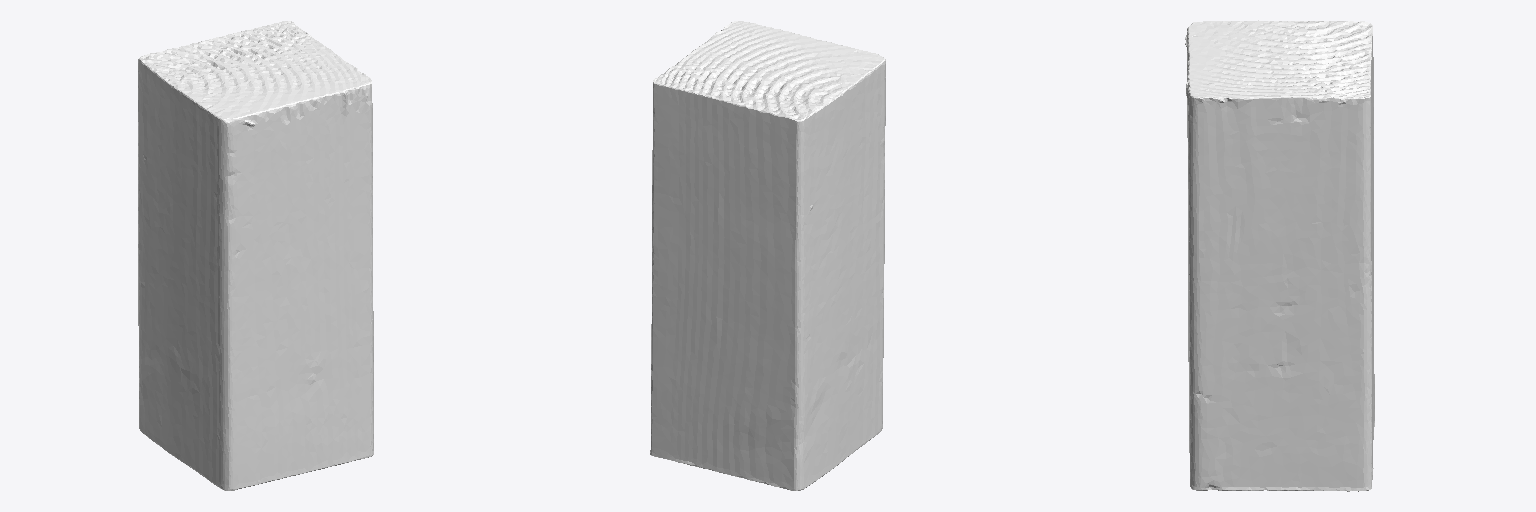
robot.urdf — scissors:
<robot name="scissors">
	<link name="base_link">
		<visual>
			<origin xyz="-0.01459152171807974 -0.0031621364077388443 -0.007400674371156582" rpy="0.0 0.0 0.0" />
			<geometry>
				<mesh filename="037_scissors/google_16k/textured.obj" scale="1 1 1" />
			</geometry>
			<material name="texture">
				<color rgba="1.0 1.0 1.0 1.0" />
			</material>
		</visual>
		<collision>
			<origin xyz="-0.01459152171807974 -0.0031621364077388443 -0.007400674371156582" rpy="0.0 0.0 0.0" />
			<geometry>
				<mesh filename="037_scissors/google_16k/textured_vhacd.obj" scale="1 1 1" />
			</geometry>
		</collision>
		<inertial>
			<mass value="0.082" />
			<inertia ixx="1e-3" ixy="0.0" ixz="0.0" iyy="1e-3" iyz="0.0" izz="1e-3" />
		</inertial>
	</link>
</robot>

--- Render facts (derived) ---
The picture shows the robot from 3 angles, left to right: view 1: azimuth 30°, elevation 25°; view 2: azimuth 150°, elevation 25°; view 3: azimuth 270°, elevation 25°; orthographic projection.
Robot: scissors — 1 links, 0 joints (none); root link base_link; default pose: all joints at 0.
Links seen in each view (by area): view 1: base_link; view 2: base_link; view 3: base_link.
Link boxes in pixels (x1=…): base_link: x1=138, y1=21, x2=373, y2=490; base_link: x1=650, y1=21, x2=885, y2=490; base_link: x1=1185, y1=20, x2=1374, y2=491.
Bounding box of the posed robot: 0.0906 × 0.0899 × 0.206 m (x, y, z).
1 mesh visuals loaded from 1 distinct referenced files (1 OBJ).